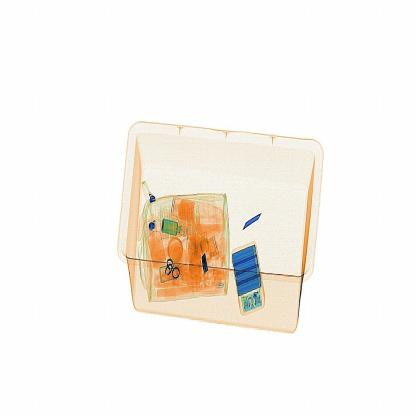pliers: (239, 201, 266, 239)
